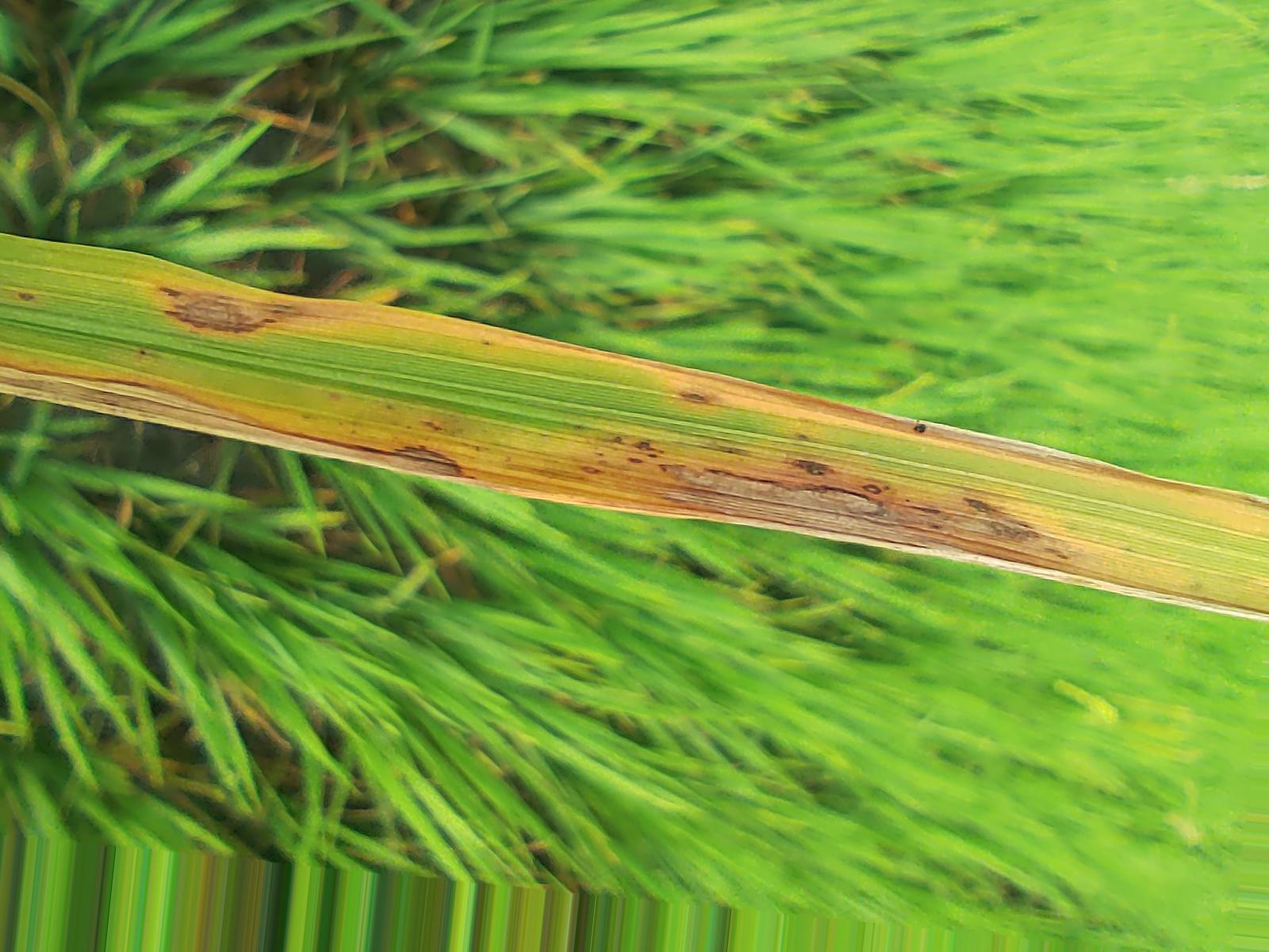LEAF: (0, 234, 1268, 621)
LEAF BLAST: (0, 364, 480, 482), (651, 460, 1085, 587), (161, 288, 303, 332)
